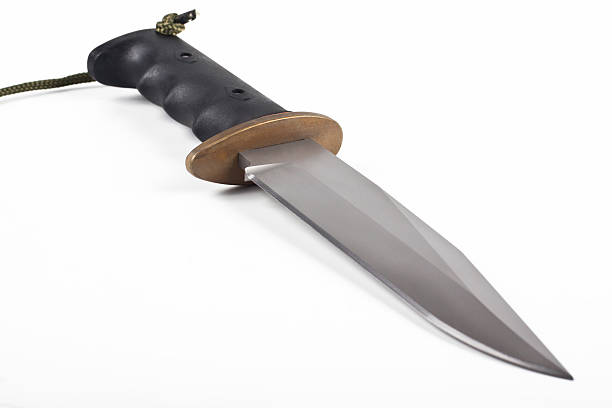knife: (85, 26, 576, 382)
